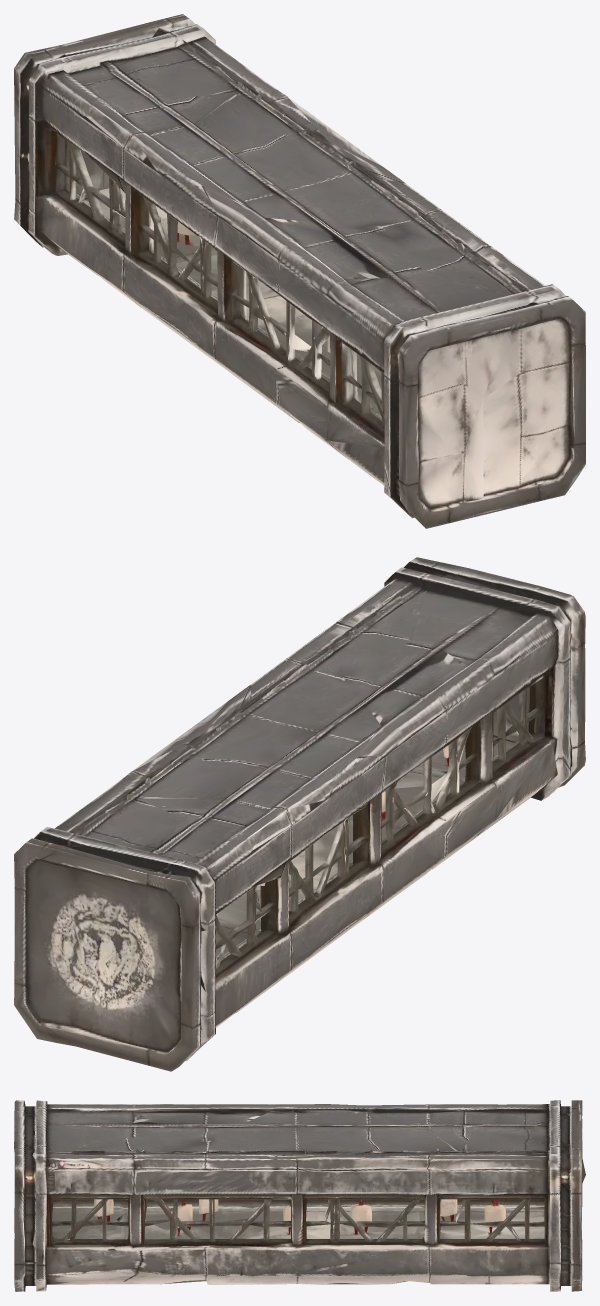
File: skyBridge.glb
3 renders of one model, top to bottom at view 1: azimuth 30°, elevation 25°; view 2: azimuth 150°, elevation 25°; view 3: azimuth 270°, elevation 25°, orthographic. The views are drawn at different scales.
Parts seen in each view (by area): view 1: skyBridge; view 2: skyBridge; view 3: skyBridge.
Boxes of the visible parts, x1,y1,x2,y2 form: skyBridge: (14,14,585,528); skyBridge: (14,557,585,1071); skyBridge: (14,1100,585,1291).
Bounding box in the file's own units: 11.07 × 11.35 × 42.
Materials: 1 (1 with a texture image).
